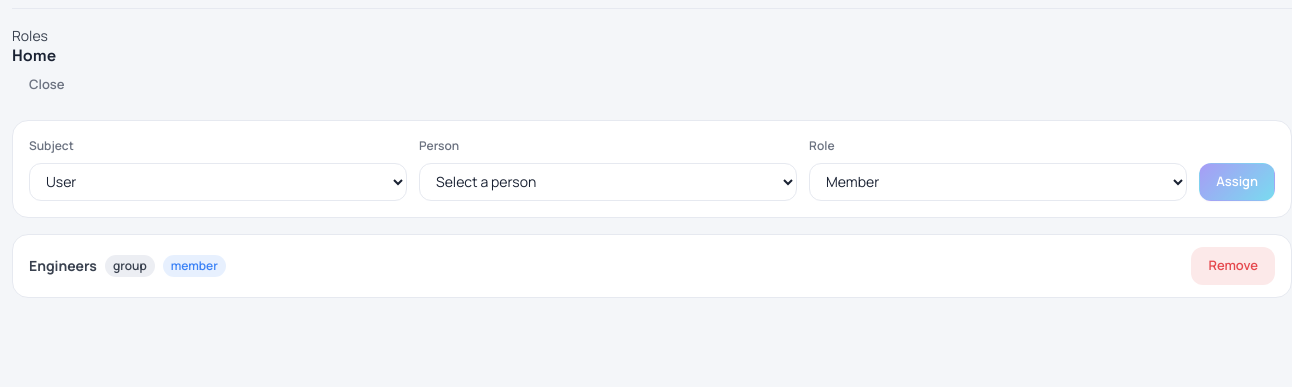
Scenario: lists existing assignments and assigns a user role
Expected: the text "Engineers" is shown, [29,255,97,276]
Select "User" in the dropdown labelled "Subject" at (218, 182), box [29,163,407,201]
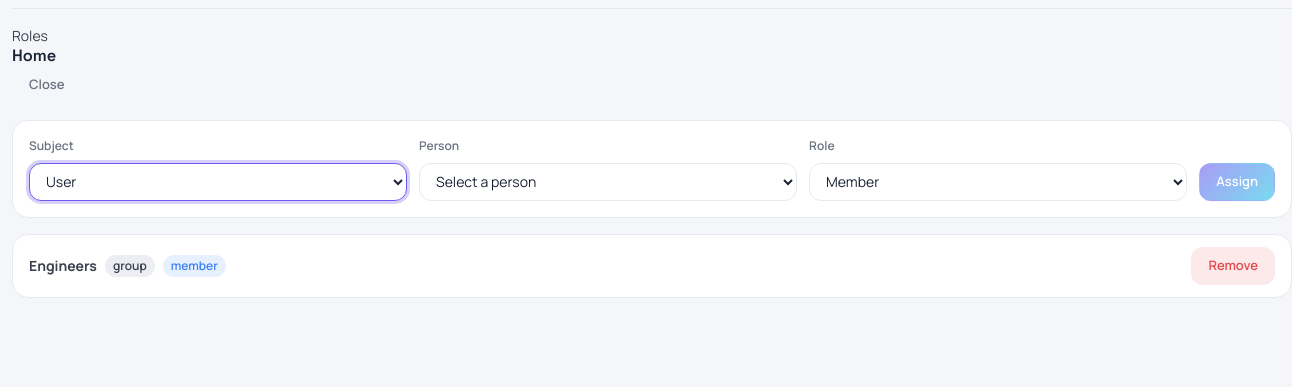
Select "Ada Lovelace (@ada)" in the dropdown labelled "Person" at (608, 182), box [419,163,797,201]
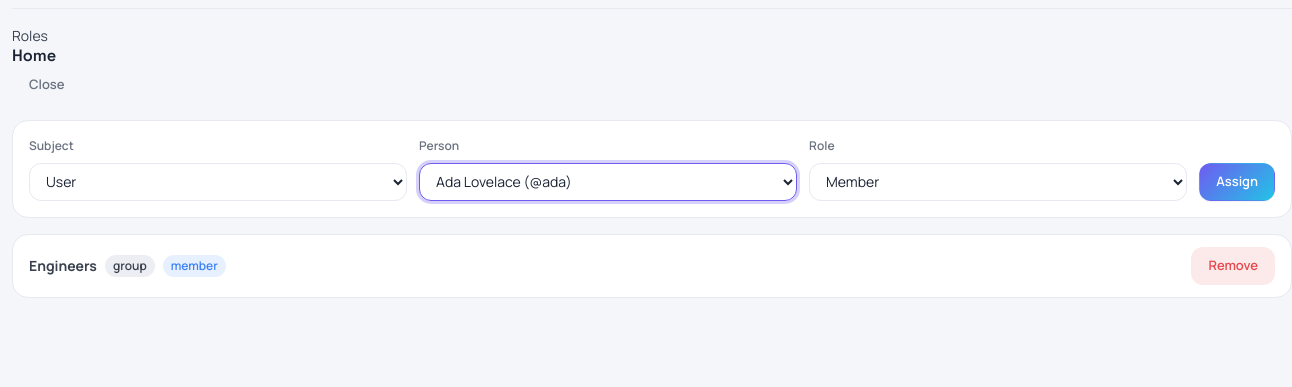
Select "Admin" in the dropdown labelled "Role" at (998, 182), box [809,163,1187,201]
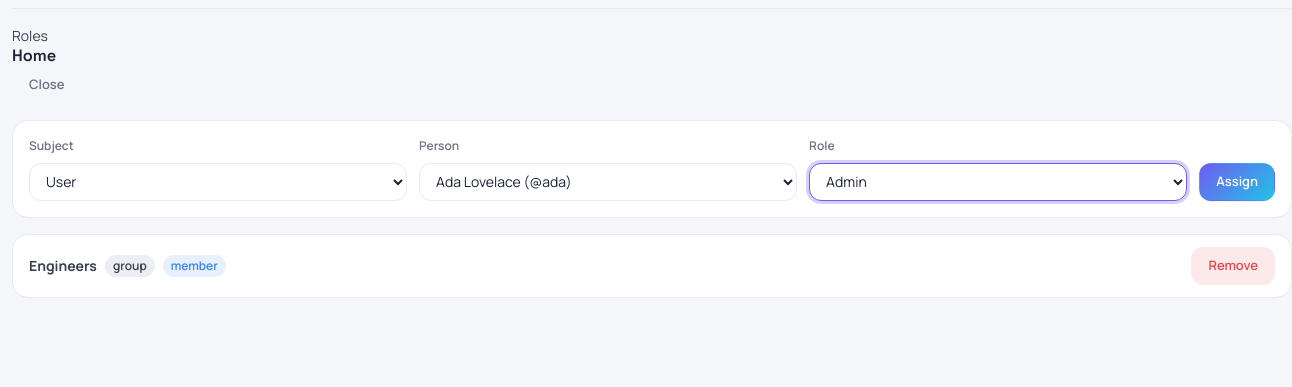
Click the button "Assign" at (1237, 182), box [1199,163,1275,201]
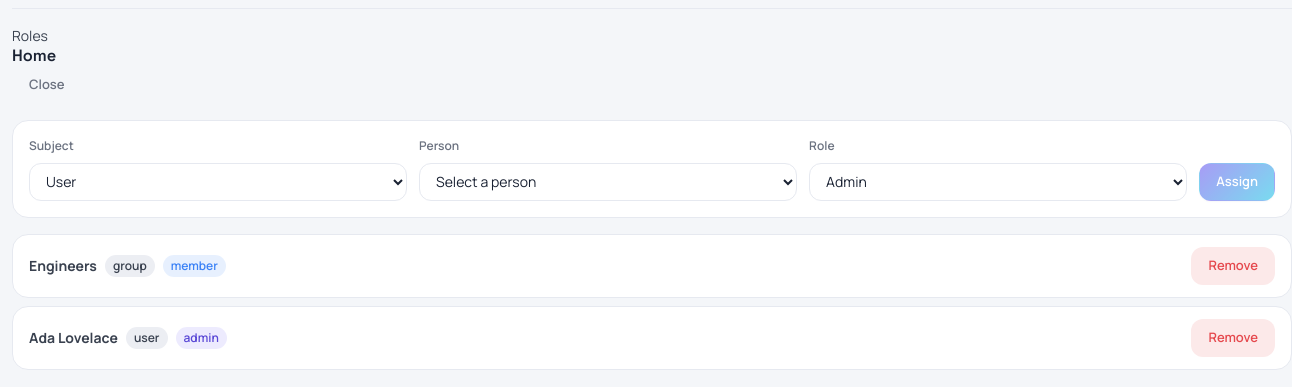
Result: the text "Ada Lovelace" is shown at [29,327,118,348]
